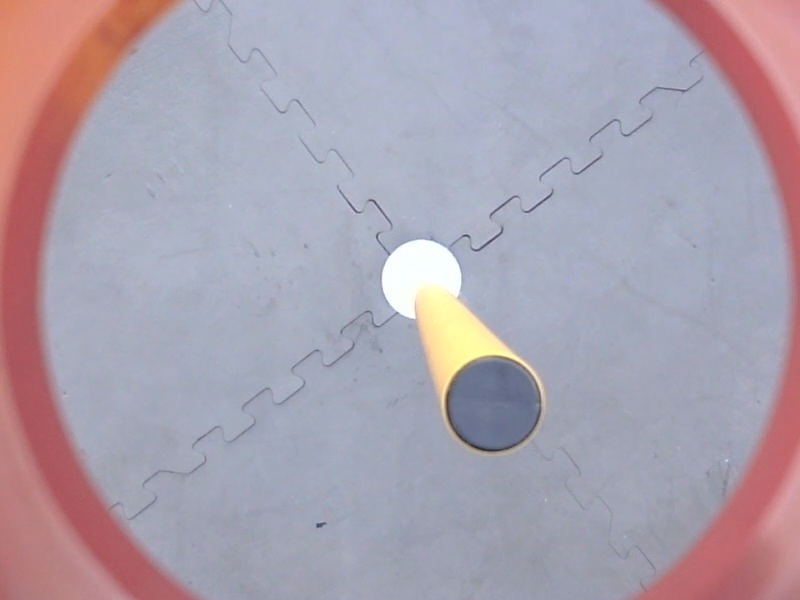tip: (437, 350, 552, 460)
